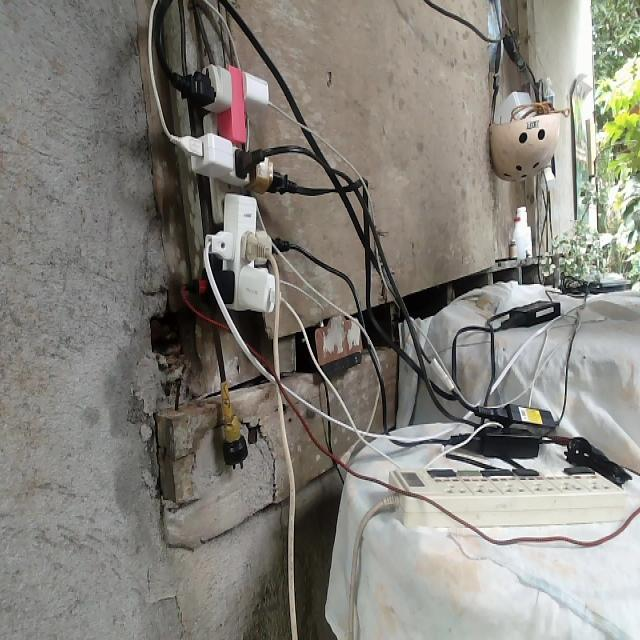-: (160, 55, 297, 317)
